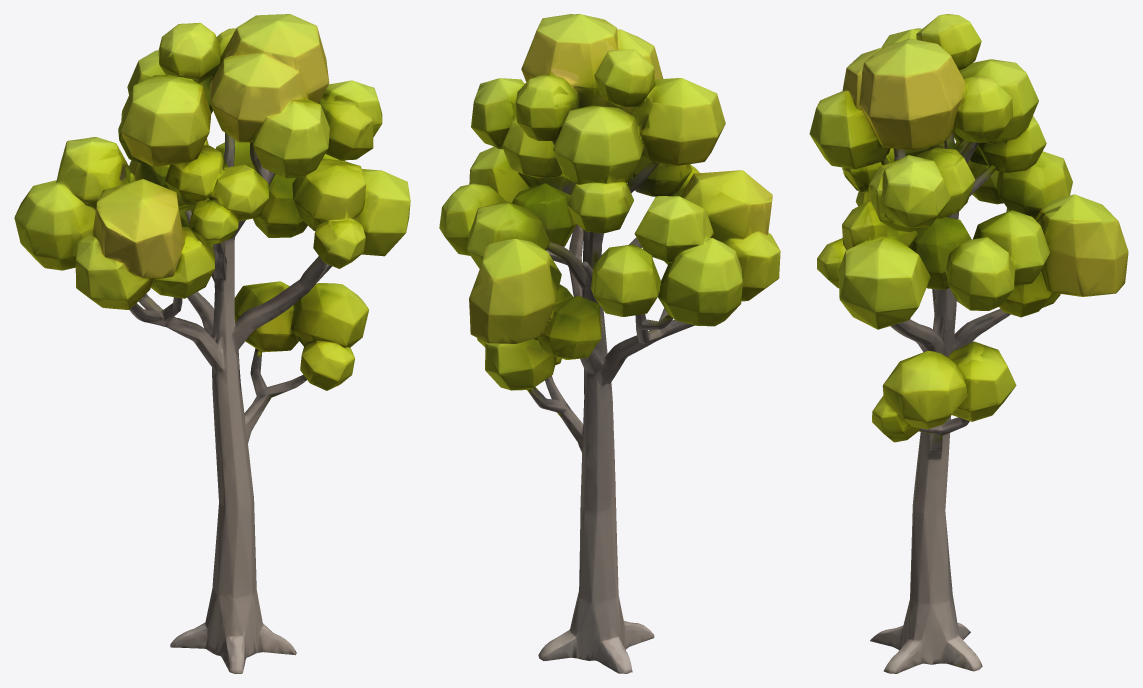
Rendered from elm-or-ash-a.glb.
The picture shows the model from 3 angles, left to right: view 1: azimuth 30°, elevation 25°; view 2: azimuth 150°, elevation 25°; view 3: azimuth 270°, elevation 25°; orthographic projection.
Visible parts, largest first — view 1: node_0; view 2: node_0; view 3: node_0.
Boxes of the visible parts, box(x1,y1,x2,y2) form: node_0: box(14, 14, 410, 673); node_0: box(439, 14, 780, 673); node_0: box(809, 14, 1128, 673).
Bounding box in the file's own units: 0.6219 × 1.15 × 0.5327.
1 material, 1 textured.
